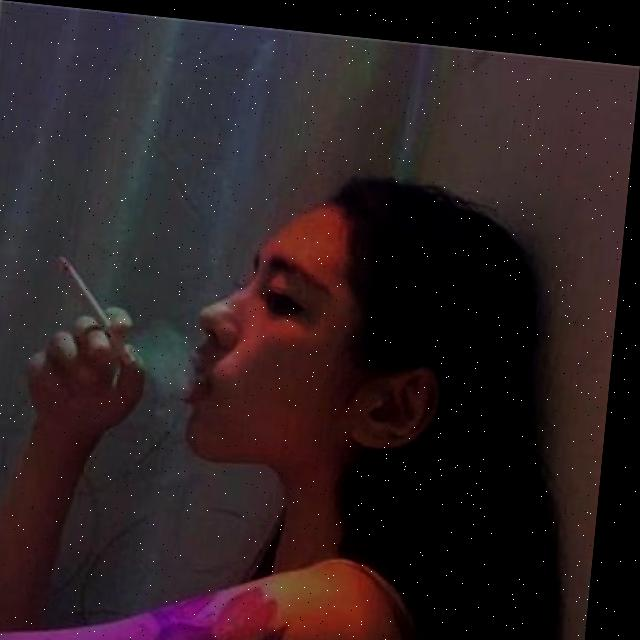cigarette: (58, 254, 117, 328)
